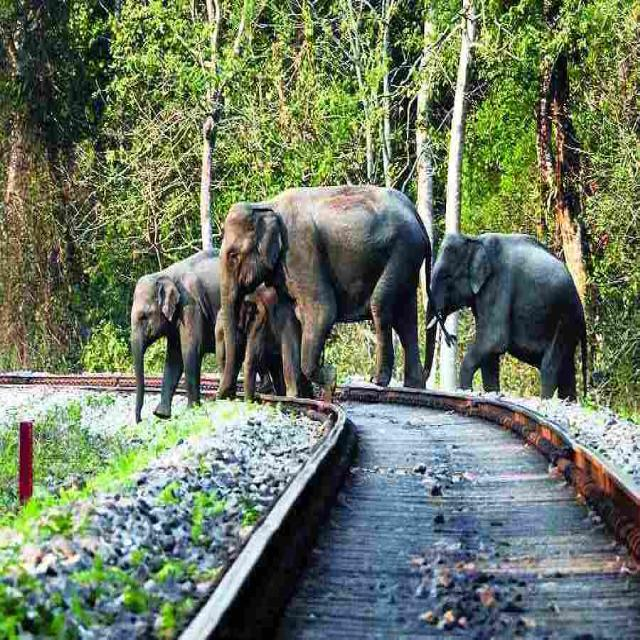Elephant: (215, 180, 432, 419), (430, 217, 602, 438), (125, 243, 222, 415)
